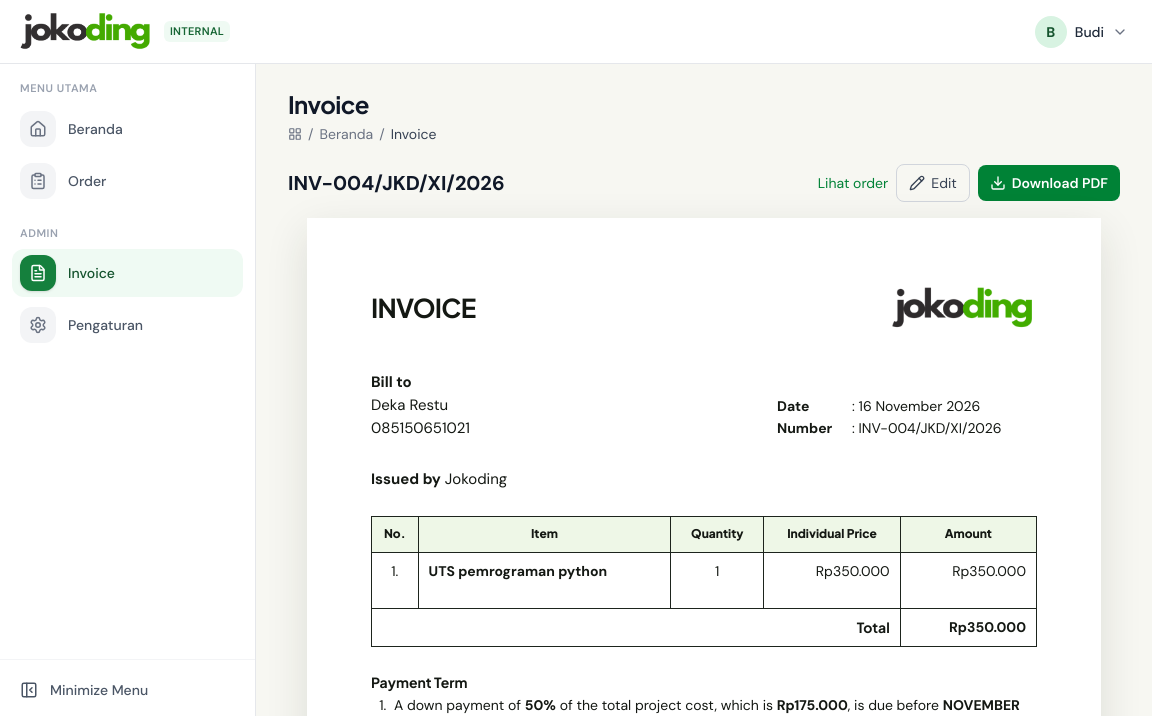
InvoiceView › prints with the PDF title and edits with PUT
Step 1. Click the button "Download PDF" → {"x": 1049, "y": 183}, box [978, 165, 1120, 201]
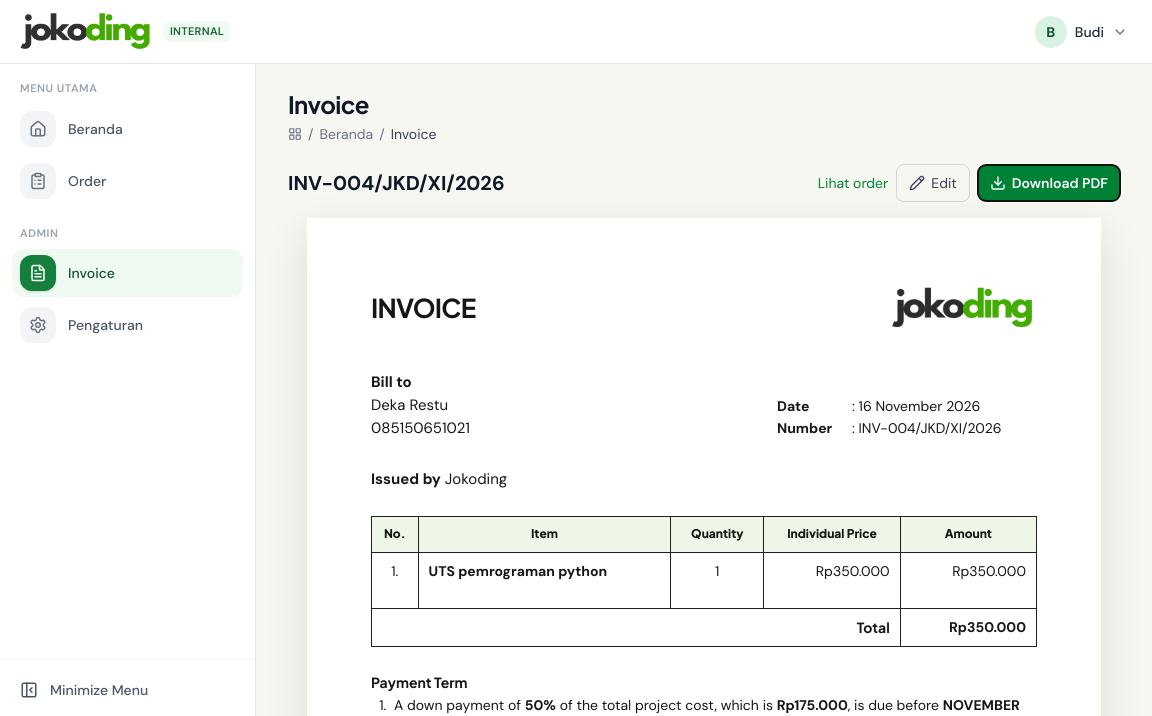
Step 2. Click the link "Edit" → {"x": 933, "y": 183}, box [896, 164, 970, 202]
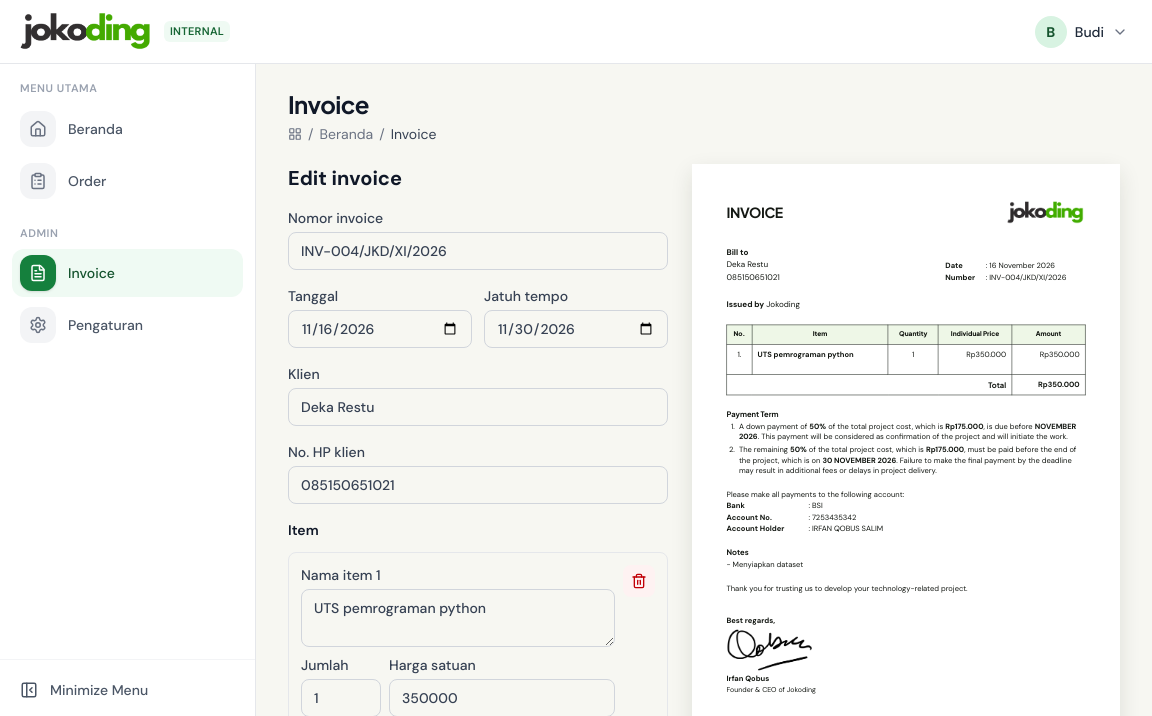
Step 3. Replace the text in the field labelled "Klien" with "Deka R" → {"x": 478, "y": 407}, box [288, 388, 668, 426]
(page scrolled)
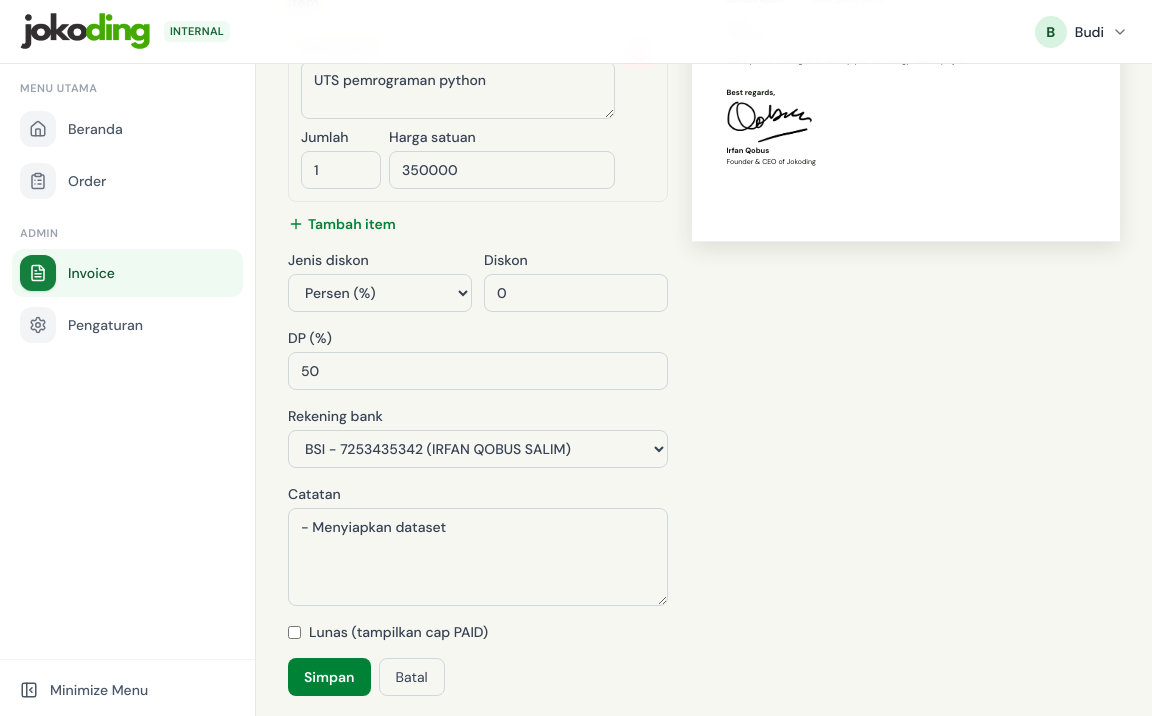
Step 4. Click the button "Simpan" → {"x": 329, "y": 677}, box [288, 658, 371, 696]
(page scrolled)
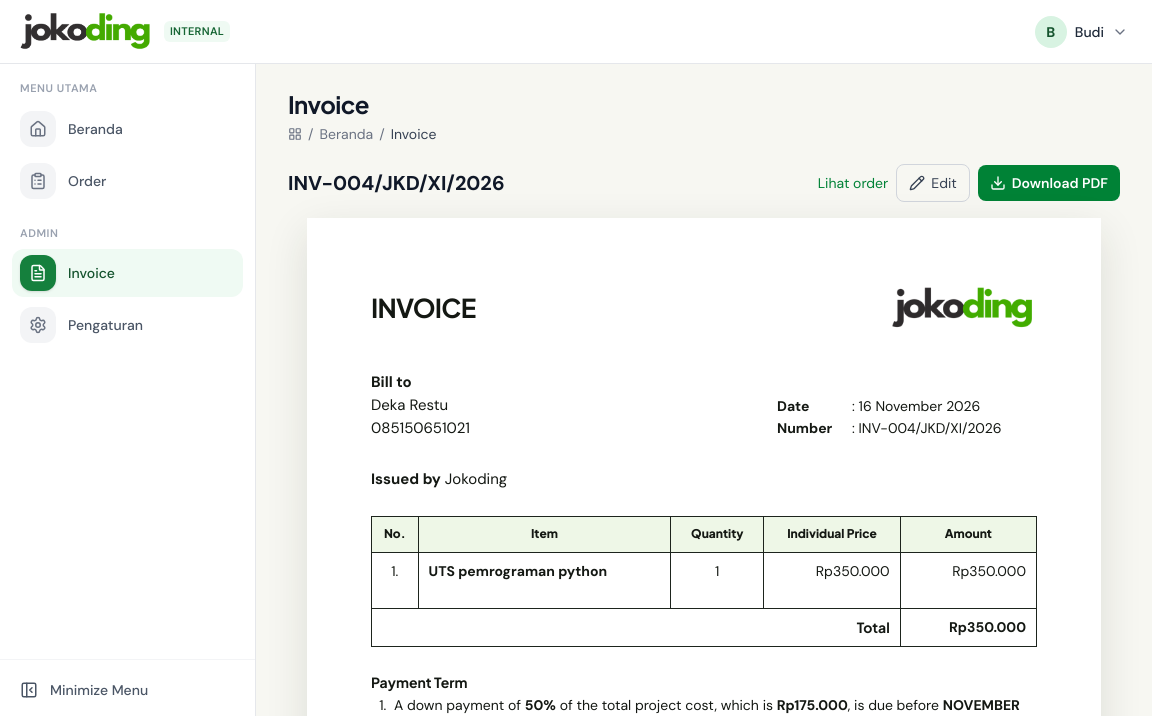
Result: the heading "INV-004/JKD/XI/2026" is shown at [288, 169, 505, 197]
